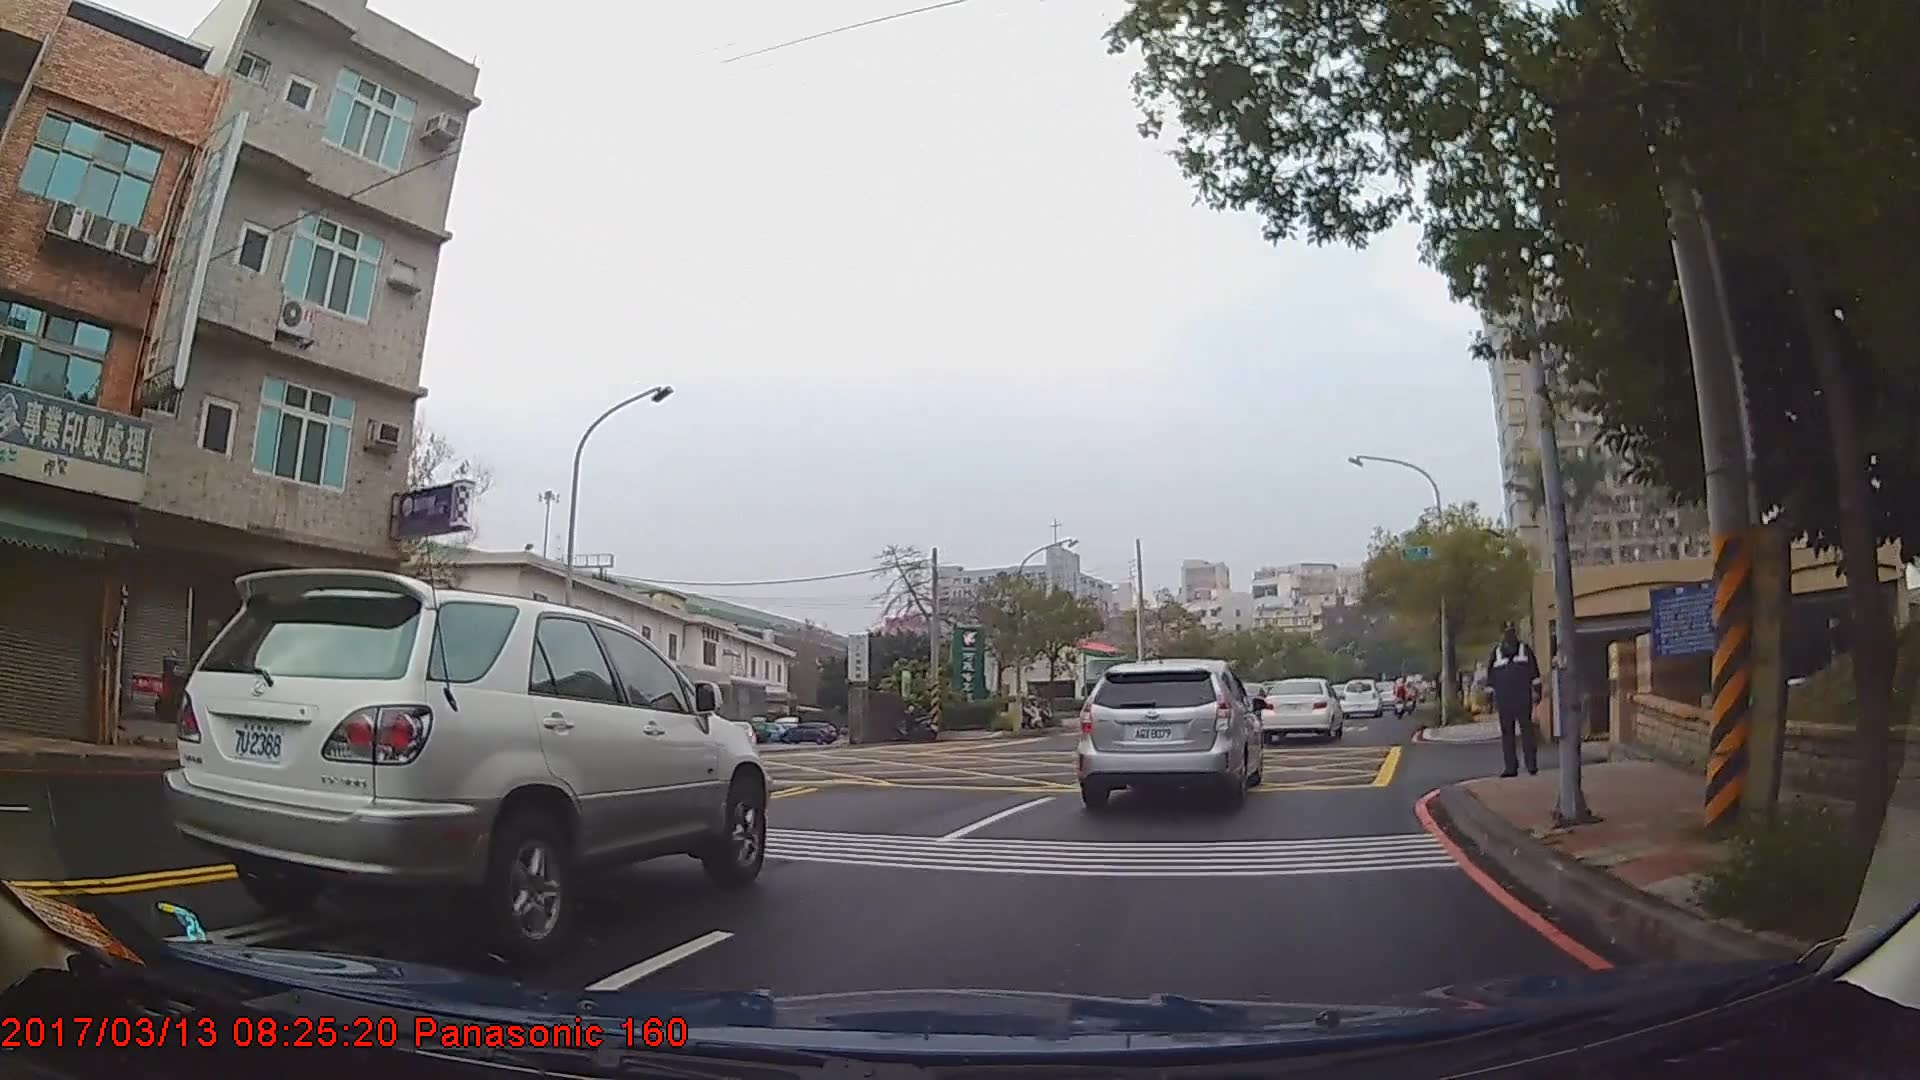pedestrian: (1483, 621, 1547, 777)
vehicle: (164, 564, 772, 957), (1074, 655, 1261, 815), (1256, 676, 1342, 742), (1338, 680, 1383, 722), (777, 720, 839, 742)
